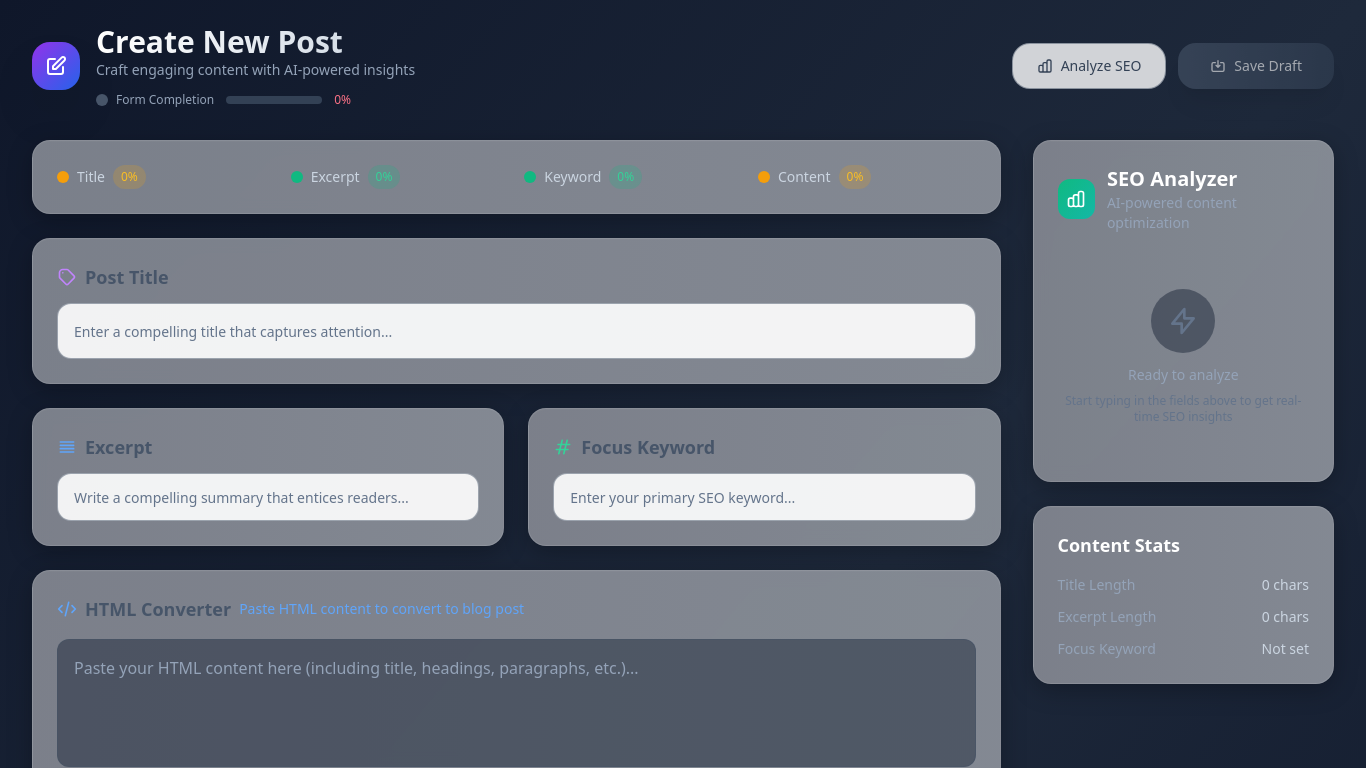
it: Editor - HTML Converter Feature › handles complex HTML content with multiple h1 tags
The image size is (1366, 768).
Replace the text in the text box with placeholder "Paste your HTML content here" with "       <h1>First Title</h1>       <p>Some content.</p>       <h1>Second Title</h1>       <p>More content.</p>     " at coordinates (516, 703), box x1=57 y1=639 x2=976 y2=767
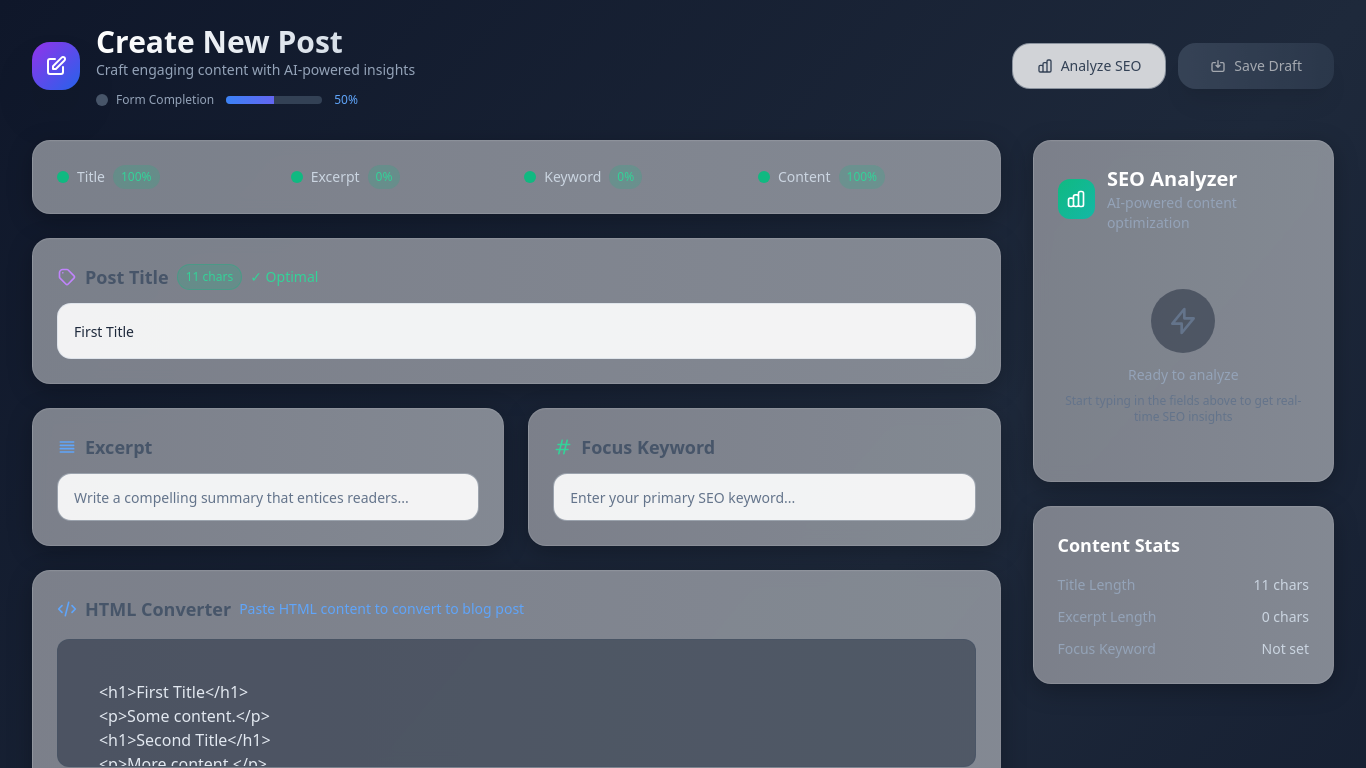
Check: the field showing "First Title" is shown, box x1=57 y1=303 x2=976 y2=359
